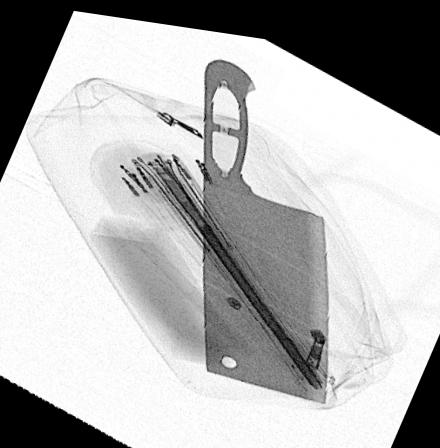Knife: (200, 49, 332, 397)
